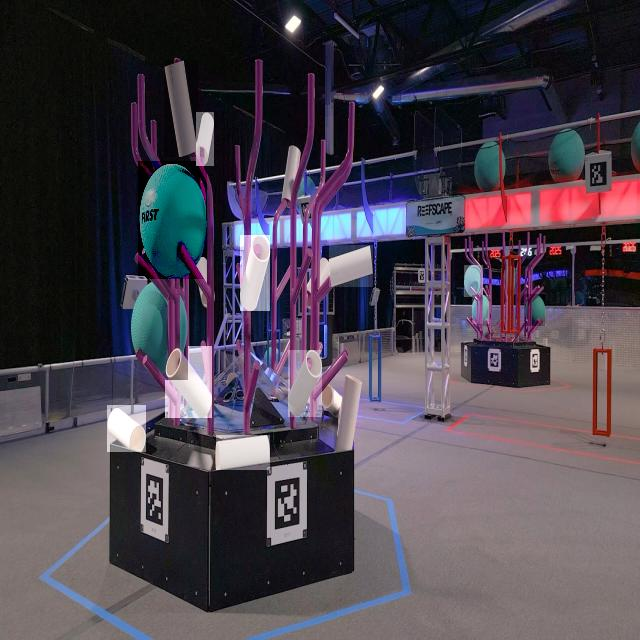Algae: (138, 161, 207, 279), (131, 282, 188, 380), (525, 294, 545, 326), (464, 265, 483, 297), (472, 295, 490, 324)
Coral: (165, 346, 212, 418), (164, 60, 198, 157), (240, 235, 270, 311), (288, 350, 322, 417), (334, 375, 362, 451), (216, 435, 270, 470), (329, 245, 373, 287), (107, 405, 146, 452), (281, 145, 301, 209), (196, 112, 214, 166)
